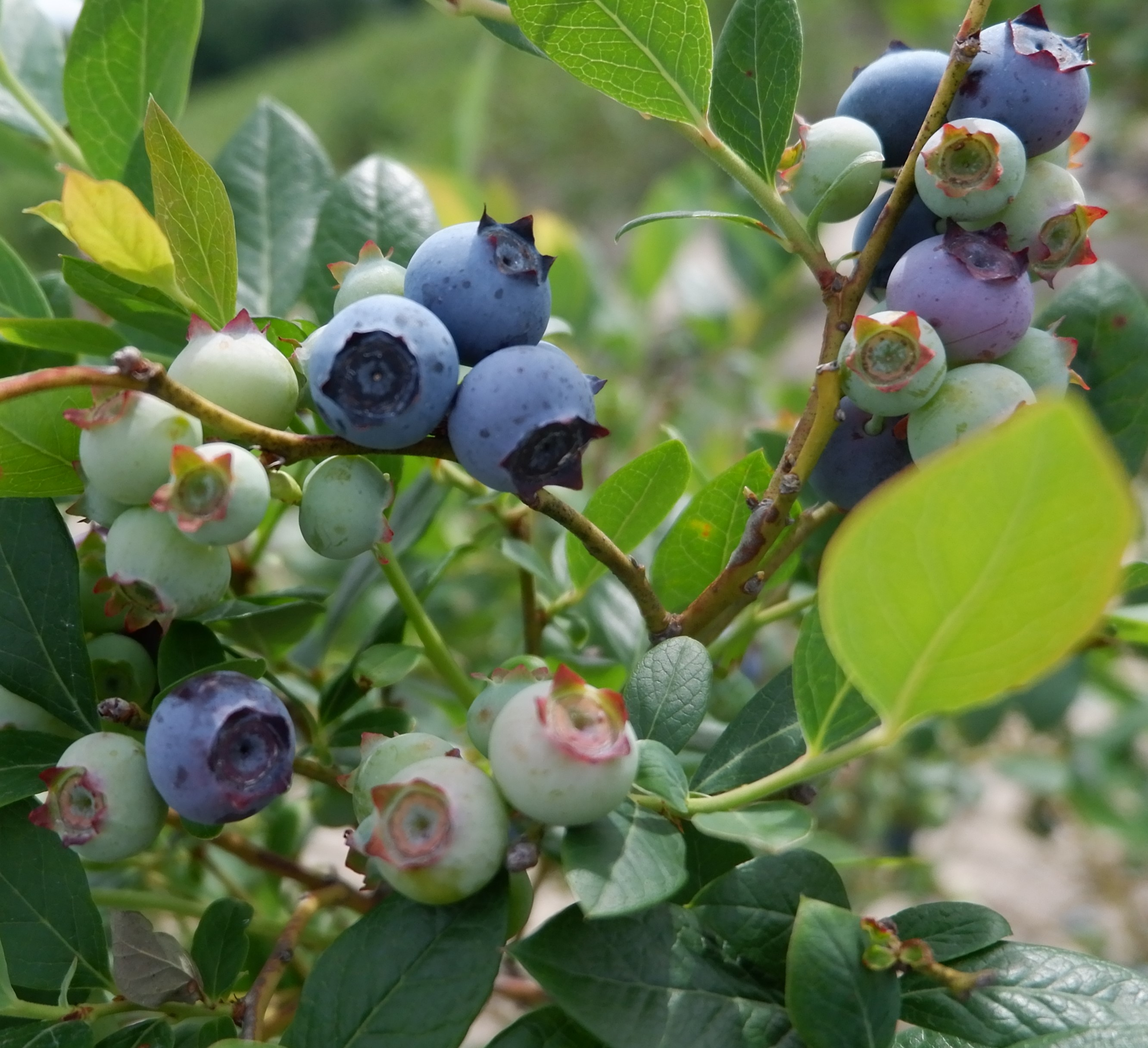Immature: (942, 158, 1106, 288), (491, 681, 635, 825), (367, 758, 502, 902), (38, 734, 162, 863), (171, 313, 296, 439), (66, 387, 200, 501), (105, 508, 226, 618), (911, 367, 1036, 463), (837, 309, 947, 415), (151, 445, 269, 543), (916, 119, 1024, 221), (782, 117, 883, 222), (298, 458, 388, 557), (347, 734, 450, 816), (468, 662, 547, 752), (998, 323, 1083, 401), (328, 240, 407, 318), (66, 460, 139, 529), (1031, 134, 1088, 172)
Mature: (949, 1, 1095, 158), (447, 345, 602, 491), (303, 297, 455, 445), (405, 212, 549, 365), (147, 675, 291, 822), (885, 232, 1031, 364), (836, 53, 950, 165), (808, 397, 910, 510), (850, 187, 942, 293)
